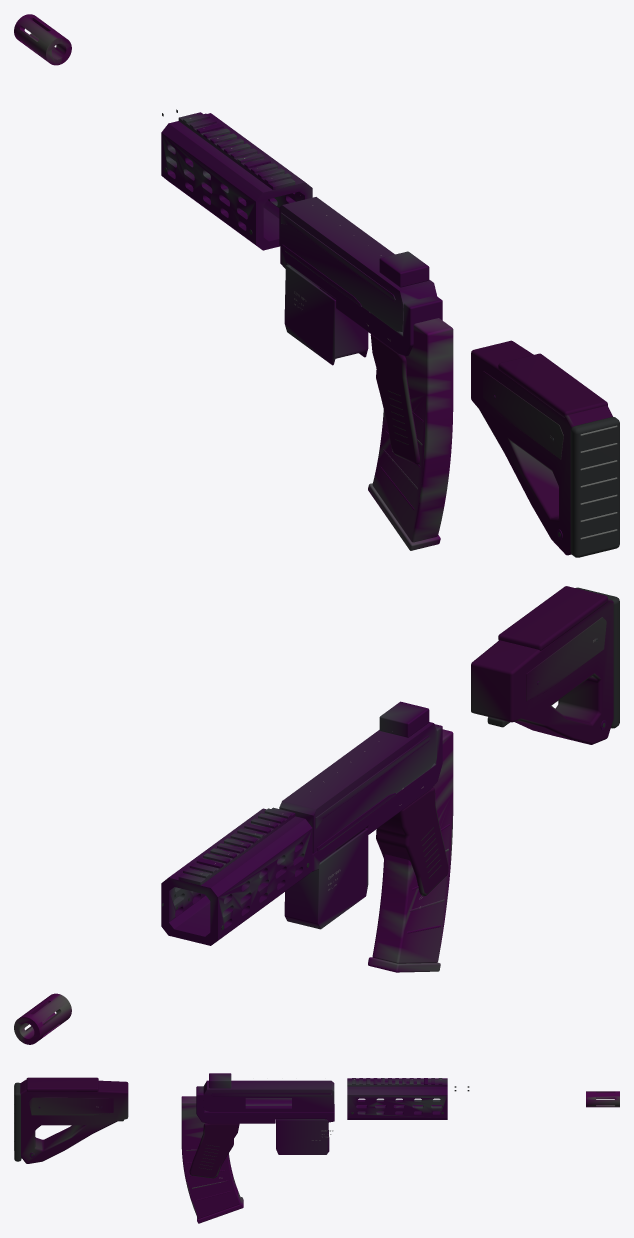
Rendered from m4a1-details.glb.
The picture shows the model from 3 angles, top to bottom: view 1: azimuth 30°, elevation 25°; view 2: azimuth 150°, elevation 25°; view 3: azimuth 270°, elevation 25°; orthographic projection. The views are drawn at different scales.
Parts seen in each view (by area): view 1: authored_magwell, authored_stock, authored_magazine, detail Recessed hardware, authored_muzzle; view 2: authored_magwell, authored_stock, authored_magazine, authored_muzzle, detail Recessed hardware; view 3: authored_magwell, authored_stock, authored_magazine, detail Recessed hardware, authored_muzzle.
Part boxes in pixels (box(x1,y1,x2,y2)): authored_magwell: box(161, 112, 562, 539); authored_stock: box(370, 334, 612, 555); authored_magazine: box(368, 318, 453, 550); detail Recessed hardware: box(162, 109, 619, 557); authored_muzzle: box(14, 14, 71, 65); authored_magwell: box(161, 638, 606, 945); authored_stock: box(376, 586, 613, 896); authored_magazine: box(368, 729, 453, 972); authored_muzzle: box(14, 993, 71, 1044); detail Recessed hardware: box(162, 587, 619, 929); authored_magwell: box(29, 1073, 447, 1157); authored_stock: box(20, 1077, 239, 1178); authored_magazine: box(181, 1096, 243, 1223); detail Recessed hardware: box(14, 1082, 469, 1169); authored_muzzle: box(586, 1091, 619, 1107).
Bounding box in the file's own units: 0.0488 × 0.2193 × 0.8405.
